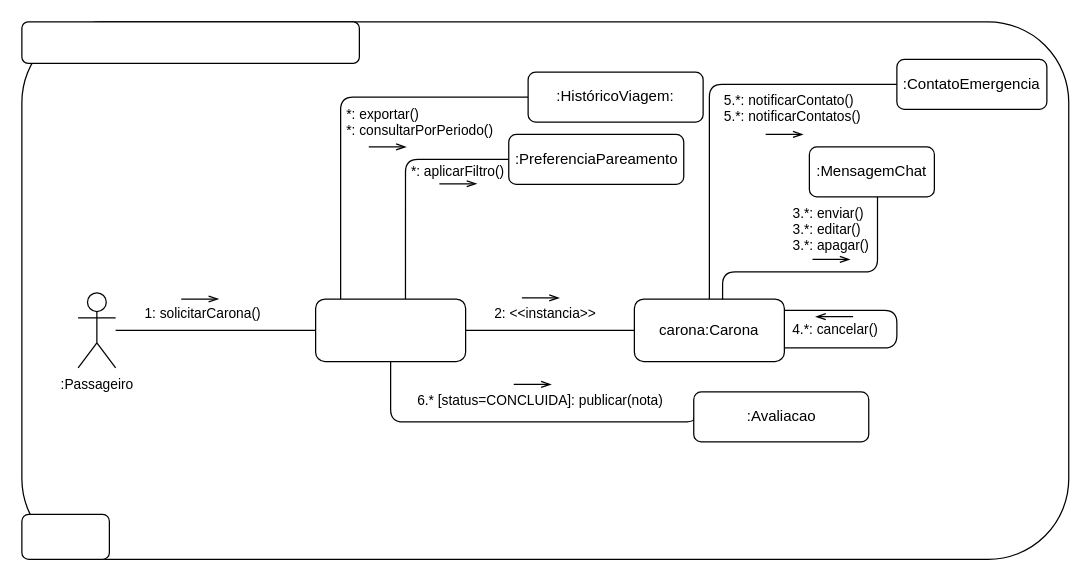
Image size: 1091x581. Some labels were removed from this diagram. The shapes that lost their labels are listed below. From the top down, each one's box as (x1, y1, x2, y2) in pixels, then its label:
(21, 21, 359, 63): interaction Passageiro Carona Amiga FCTE
(314, 298, 466, 362): <<sistema>> :CaronaOnline
(21, 513, 109, 559): Versão 1.0
